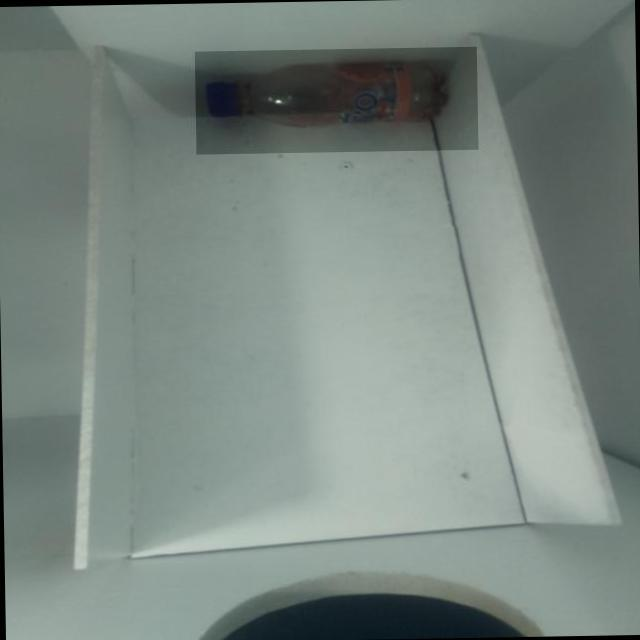good: (194, 44, 478, 152)
